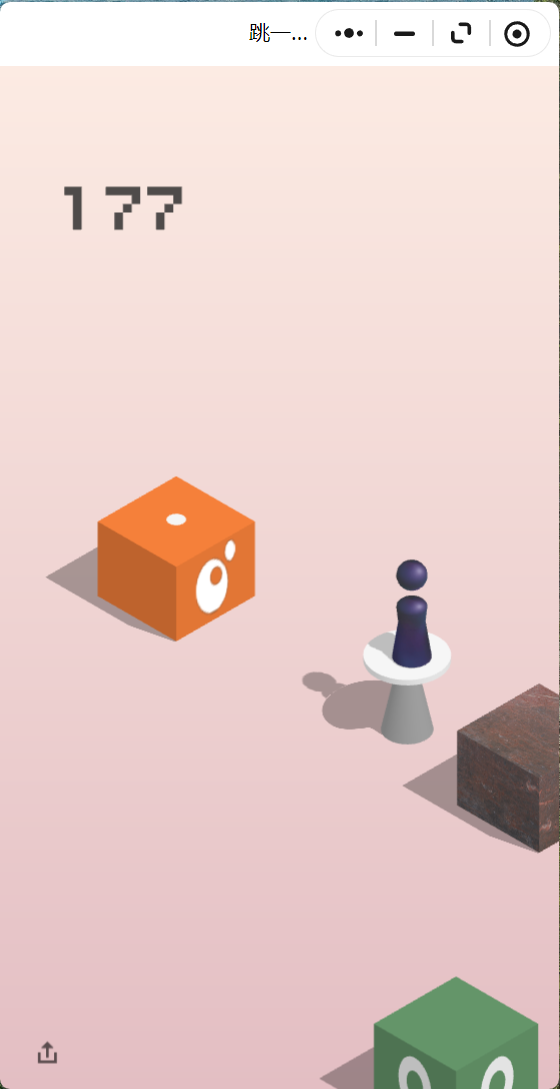piece: (396, 559, 427, 663)
target: (97, 477, 256, 565)
